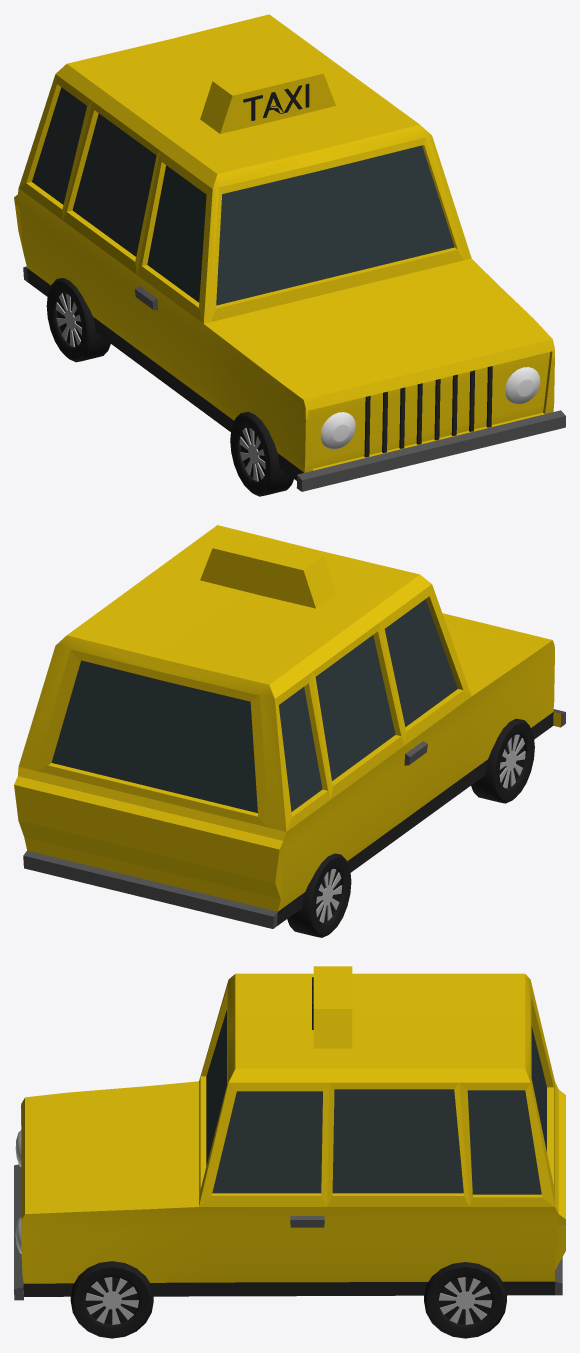
Rendered from taxi.fbx.
3 renders of one model, top to bottom at view 1: azimuth 30°, elevation 25°; view 2: azimuth 150°, elevation 25°; view 3: azimuth 270°, elevation 25°, orthographic. The views are drawn at different scales.
Visible parts, largest first — view 1: Car, Taxi_Sign, Wheel_front_right, Wheel_back_right, Headlight_right, Headlight_left, Taxi_Text; view 2: Car, Taxi_Sign, Wheel_front_right, Wheel_back_right; view 3: Car, Wheel_front_left, Wheel_back_left, Taxi_Sign.
Boxes of the visible parts, <box> form: Car: <box>14,14,565,491</box>; Taxi_Sign: <box>200,59,335,133</box>; Wheel_front_right: <box>230,411,293,496</box>; Wheel_back_right: <box>46,278,110,362</box>; Headlight_right: <box>320,412,355,449</box>; Headlight_left: <box>505,367,540,404</box>; Taxi_Text: <box>243,83,309,120</box>; Car: <box>14,525,565,928</box>; Taxi_Sign: <box>200,533,335,608</box>; Wheel_front_right: <box>471,718,534,803</box>; Wheel_back_right: <box>287,853,351,937</box>; Car: <box>14,973,565,1300</box>; Wheel_front_left: <box>70,1261,153,1338</box>; Wheel_back_left: <box>424,1262,506,1338</box>; Taxi_Sign: <box>313,966,352,1048</box>.
Bounding box in the file's own units: 4.4 × 4.59 × 7.94.
